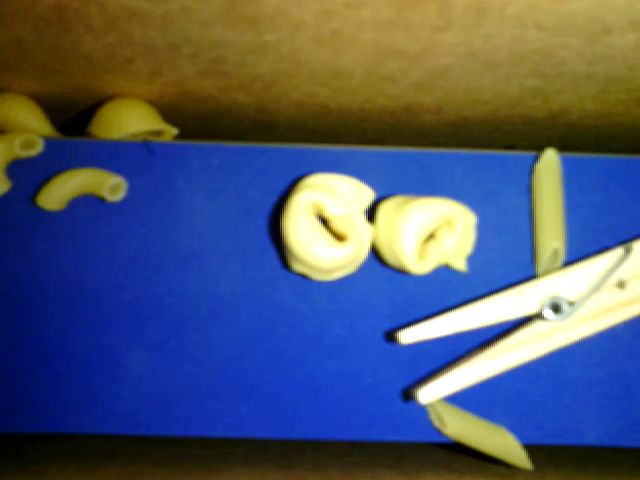elbow: (34, 167, 131, 213), (1, 126, 46, 195)
penne: (418, 396, 531, 469), (528, 146, 565, 279)
shell: (91, 93, 177, 139), (1, 85, 62, 142)
tortellini: (276, 166, 377, 277), (369, 188, 476, 277)
